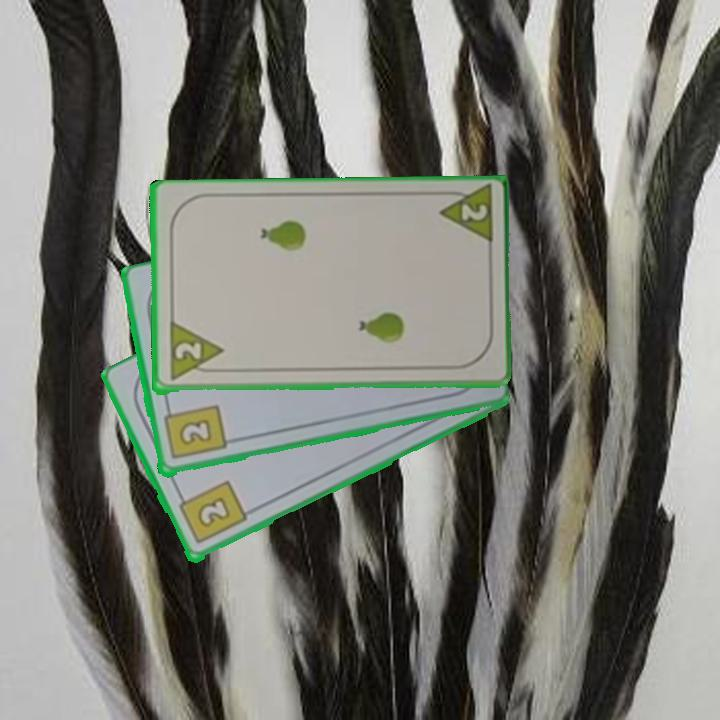2b: (174, 477, 249, 547), (159, 402, 229, 463)
2p: (434, 185, 495, 250), (165, 321, 225, 384)
